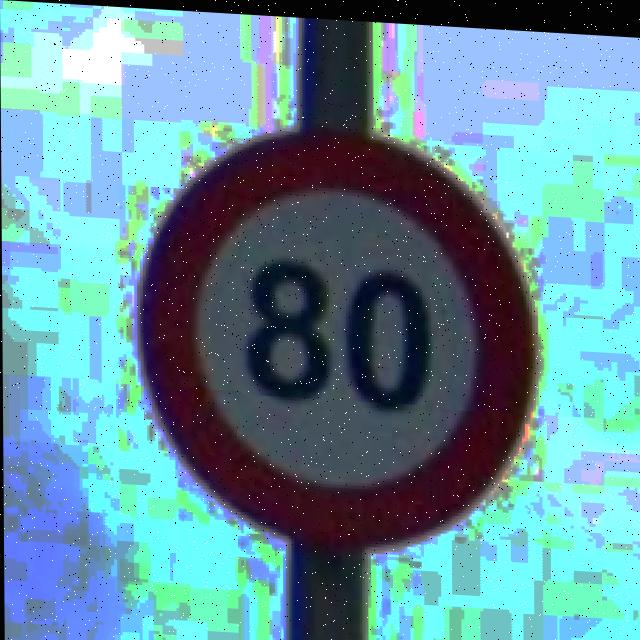max80: (133, 112, 539, 556)
